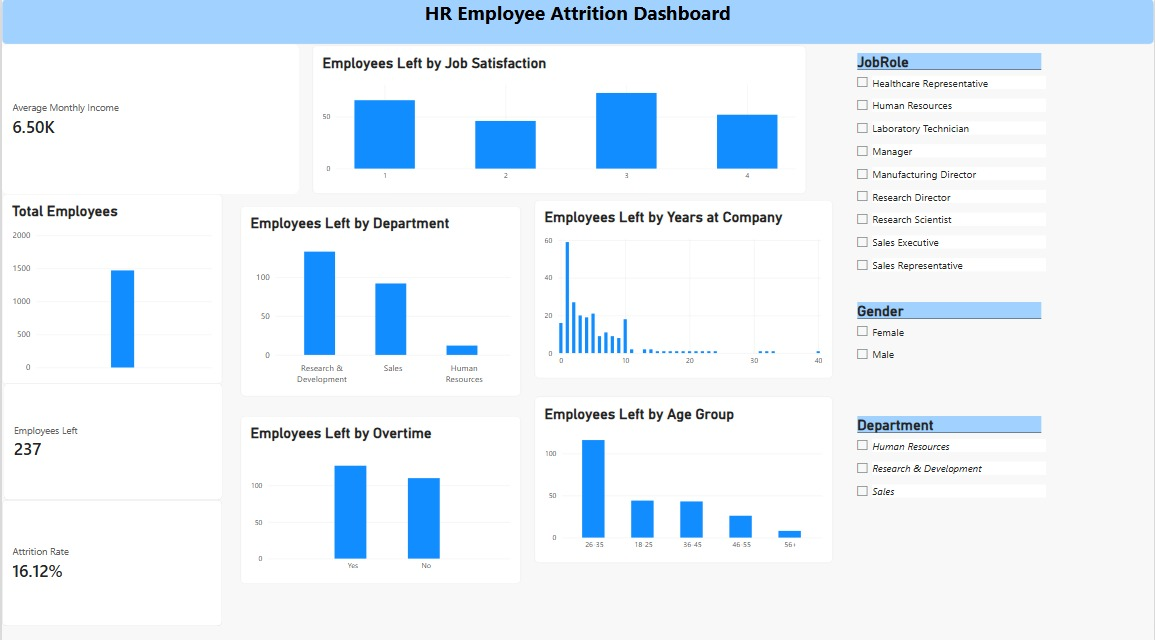

Layout of this report page (visuals, bound fields, positions):
{"tool":"powerbi","page":{"name":"Page 1","canvas":[1920,1080],"ordinal":0},"visuals":[{"type":"clusteredColumnChart","fields":{"Y":["employee_attrition_cleaned.Total Employees"]},"box":[0,325,367.5,317.5],"z":1000},{"type":"cardVisual","fields":{"Data":["employee_attrition_cleaned.Attrition Rate"]},"box":[0,835,367.5,210],"z":3000},{"type":"cardVisual","fields":{"Data":["employee_attrition_cleaned.Average Monthly Income"]},"box":[0,75,495,250],"z":4000},{"type":"clusteredColumnChart","title":"Employees Left by Department","fields":{"Category":["employee_attrition_cleaned.Department"],"Y":["employee_attrition_cleaned.Employees Left"]},"box":[397.5,345,467.5,317.5],"z":5000},{"type":"clusteredColumnChart","title":"Employees Left by Overtime","fields":{"Category":["employee_attrition_cleaned.OverTime"],"Y":["employee_attrition_cleaned.Employees Left"]},"box":[397.5,695,467.5,280],"z":6000},{"type":"clusteredColumnChart","title":"Employees Left by Age Group","fields":{"Category":["employee_attrition_cleaned.AgeGroup"],"Y":["employee_attrition_cleaned.Employees Left"]},"box":[887.5,662.5,497.5,277.5],"z":7000},{"type":"clusteredColumnChart","title":"Employees Left by Job Satisfaction","fields":{"Category":["employee_attrition_cleaned.JobSatisfaction"],"Y":["employee_attrition_cleaned.Employees Left"]},"box":[517.5,77.5,822.5,247.5],"z":8000},{"type":"clusteredColumnChart","title":"Employees Left by Years at Company","fields":{"Category":["employee_attrition_cleaned.YearsAtCompany"],"Y":["employee_attrition_cleaned.Employees Left"]},"box":[887.5,335,497.5,297.5],"z":9000},{"type":"slicer","fields":{"Values":["employee_attrition_cleaned.Department"]},"box":[1417.5,695,322.5,210],"z":10000},{"type":"slicer","fields":{"Values":["employee_attrition_cleaned.Gender"]},"box":[1417.5,505,322.5,157.5],"z":11000},{"type":"slicer","fields":{"Values":["employee_attrition_cleaned.JobRole"]},"box":[1417.5,90,322.5,375],"z":12000},{"type":"textbox","box":[0,0,1920,75],"z":12001},{"type":"cardVisual","fields":{"Data":["employee_attrition_cleaned.Employees Left"]},"box":[2.5,640,365,195],"z":12002},{"type":"textbox","box":[443,275,220,190],"z":12005}]}

Visuals, with their boxes in screenshot pixels (x1, y1, x2, y2), scaled from the page's 1920x1080 canvas onto the 1155x640 screenshot:
clusteredColumnChart - employee_attrition_cleaned.Total Employees: {"x1": 0, "y1": 193, "x2": 221, "y2": 381}
cardVisual - employee_attrition_cleaned.Attrition Rate: {"x1": 0, "y1": 495, "x2": 221, "y2": 619}
cardVisual - employee_attrition_cleaned.Average Monthly Income: {"x1": 0, "y1": 44, "x2": 298, "y2": 193}
"Employees Left by Department" clusteredColumnChart: {"x1": 239, "y1": 204, "x2": 520, "y2": 393}
"Employees Left by Overtime" clusteredColumnChart: {"x1": 239, "y1": 412, "x2": 520, "y2": 578}
"Employees Left by Age Group" clusteredColumnChart: {"x1": 534, "y1": 393, "x2": 833, "y2": 557}
"Employees Left by Job Satisfaction" clusteredColumnChart: {"x1": 311, "y1": 46, "x2": 806, "y2": 193}
"Employees Left by Years at Company" clusteredColumnChart: {"x1": 534, "y1": 199, "x2": 833, "y2": 375}
slicer - employee_attrition_cleaned.Department: {"x1": 853, "y1": 412, "x2": 1047, "y2": 536}
slicer - employee_attrition_cleaned.Gender: {"x1": 853, "y1": 299, "x2": 1047, "y2": 393}
slicer - employee_attrition_cleaned.JobRole: {"x1": 853, "y1": 53, "x2": 1047, "y2": 276}
textbox: {"x1": 0, "y1": 0, "x2": 1154, "y2": 44}
cardVisual - employee_attrition_cleaned.Employees Left: {"x1": 2, "y1": 379, "x2": 221, "y2": 495}
textbox: {"x1": 266, "y1": 163, "x2": 399, "y2": 276}
